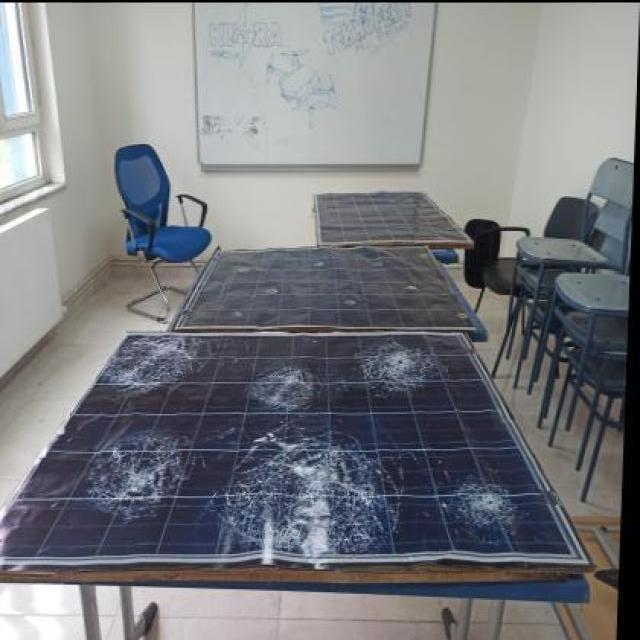cracked: (3, 330, 584, 586)
soiled: (169, 240, 486, 334)
